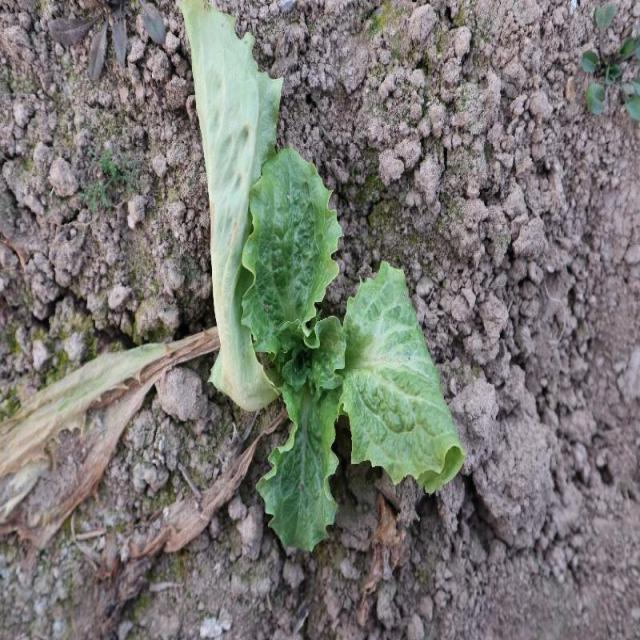crop: (236, 144, 467, 559)
